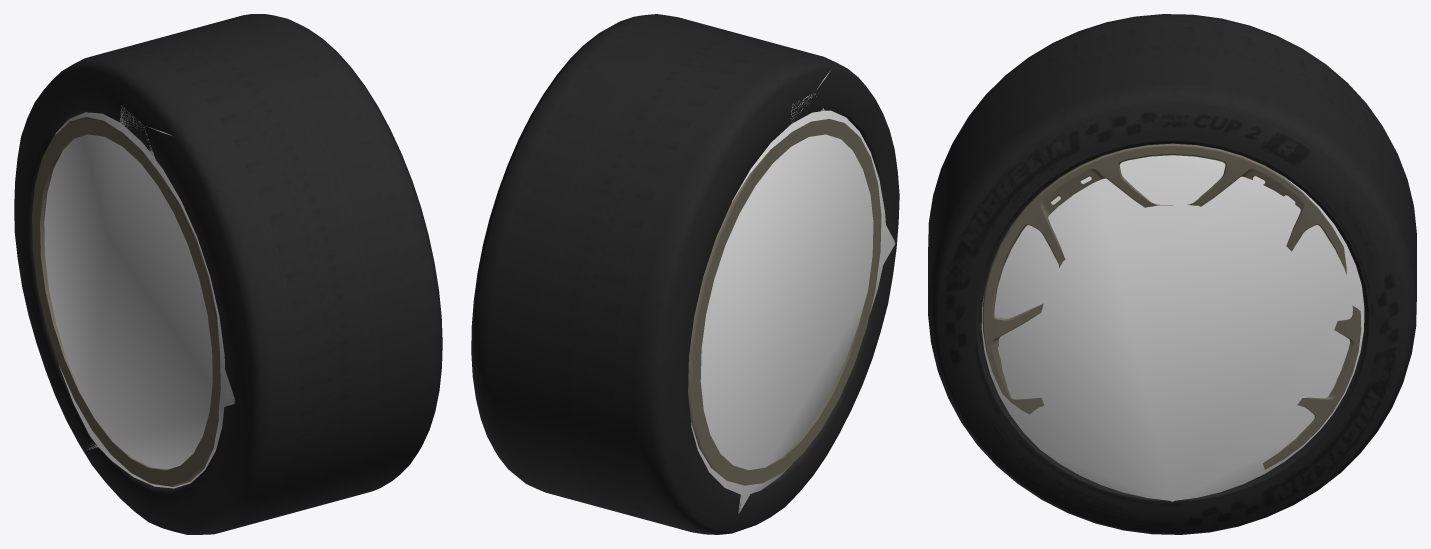
The picture shows the model from 3 angles, left to right: view 1: azimuth 30°, elevation 25°; view 2: azimuth 150°, elevation 25°; view 3: azimuth 270°, elevation 25°; orthographic projection.
Parts seen in each view (by area): view 1: wheel_stampede_front_01, wheel_stampede_front_01_col; view 2: wheel_stampede_front_01, wheel_stampede_front_01_col; view 3: wheel_stampede_front_01, wheel_stampede_front_01_col.
Part boxes in pixels (x1=…): wheel_stampede_front_01: x1=14, y1=14, x2=442, y2=534; wheel_stampede_front_01_col: x1=44, y1=105, x2=235, y2=488; wheel_stampede_front_01: x1=471, y1=14, x2=899, y2=534; wheel_stampede_front_01_col: x1=691, y1=70, x2=895, y2=513; wheel_stampede_front_01: x1=928, y1=14, x2=1416, y2=534; wheel_stampede_front_01_col: x1=981, y1=155, x2=1364, y2=501.
Size of the model in its own units: 0.3527 by 0.709 by 0.703.
1 material, 1 textured.
